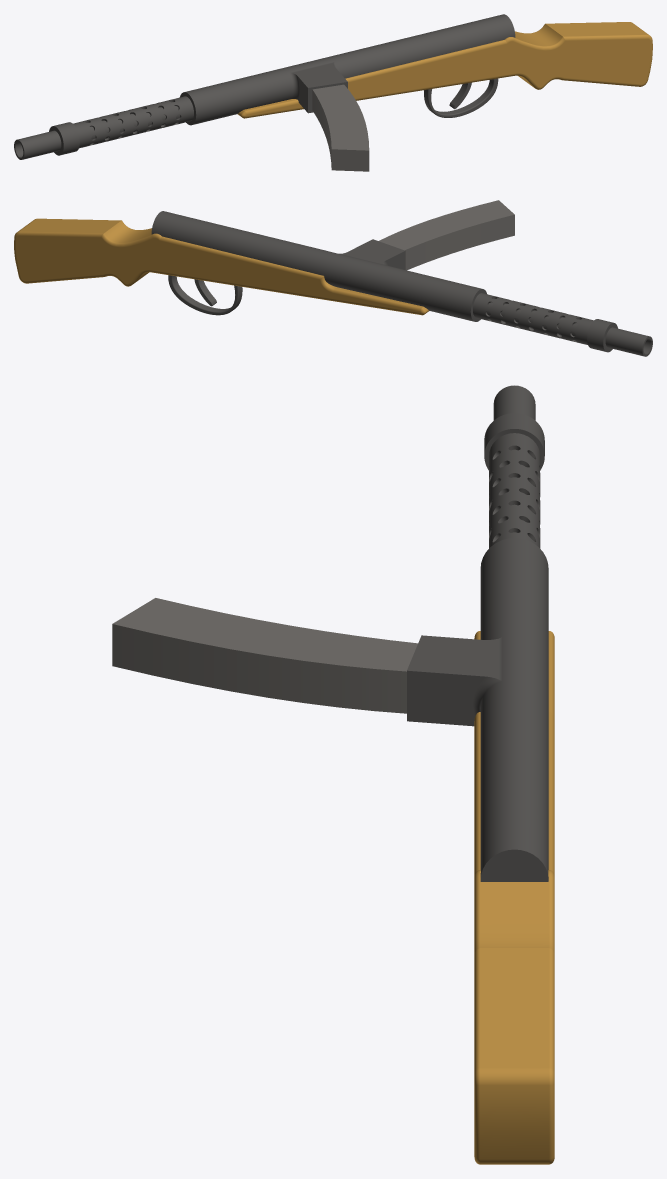
Rendered from 100Shiki.fbx.
3 views of the same model, one above another, from view 1: azimuth 30°, elevation 25°; view 2: azimuth 150°, elevation 25°; view 3: azimuth 270°, elevation 25° (orthographic). The views are drawn at different scales.
Visible parts, largest first — view 1: Body1, Body2, Body9, Body3, Body4, Body6, Body5, Body7; view 2: Body1, Body2, Body9, Body3, Body4, Body6, Body5, Body7; view 3: Body2, Body1, Body9, Body3, Body5, Body4.
Part boxes in pixels (x1,y1,x2,y2): Body1: (237,22,652,118); Body2: (179,14,515,125); Body9: (312,84,369,171); Body3: (73,96,193,148); Body4: (14,102,179,159); Body6: (424,78,498,117); Body5: (49,122,79,155); Body7: (449,82,471,109); Body1: (14,218,429,315); Body2: (151,211,486,321); Body9: (379,200,514,270); Body3: (473,293,593,344); Body4: (487,298,652,356); Body6: (168,275,242,315); Body5: (587,319,617,352); Body7: (194,279,216,306); Body2: (407,538,548,881); Body1: (474,631,554,1164); Body9: (112,598,417,713); Body3: (489,433,540,548); Body5: (484,413,544,470); Body4: (493,385,535,533).
Bounding box in the file's own units: 1550 × 226 × 475.
